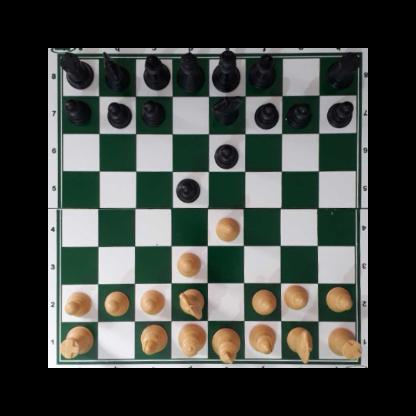black-bishop: (248, 53, 276, 90), (143, 53, 170, 90)
black-king: (211, 50, 242, 93)
black-knight: (103, 51, 130, 92), (211, 96, 243, 127)
black-pawn: (326, 100, 353, 128), (64, 98, 91, 126), (213, 141, 240, 167), (287, 101, 312, 128), (254, 102, 278, 129), (107, 100, 130, 128), (141, 100, 165, 126), (176, 177, 200, 202)
black-queen: (176, 52, 206, 91)
black-rook: (59, 53, 93, 88), (325, 53, 358, 88)
white-bishop: (249, 323, 276, 356), (140, 323, 166, 355)
white-king: (213, 326, 239, 363)
white-knight: (287, 326, 313, 364), (179, 287, 205, 319)
white-pawn: (63, 290, 93, 316), (326, 286, 353, 312), (176, 250, 202, 277), (139, 288, 165, 315), (250, 289, 276, 314), (284, 284, 309, 310), (214, 216, 240, 241), (103, 290, 129, 314)
white-queen: (175, 323, 208, 356)
white-rook: (327, 326, 362, 359), (59, 325, 93, 358)
